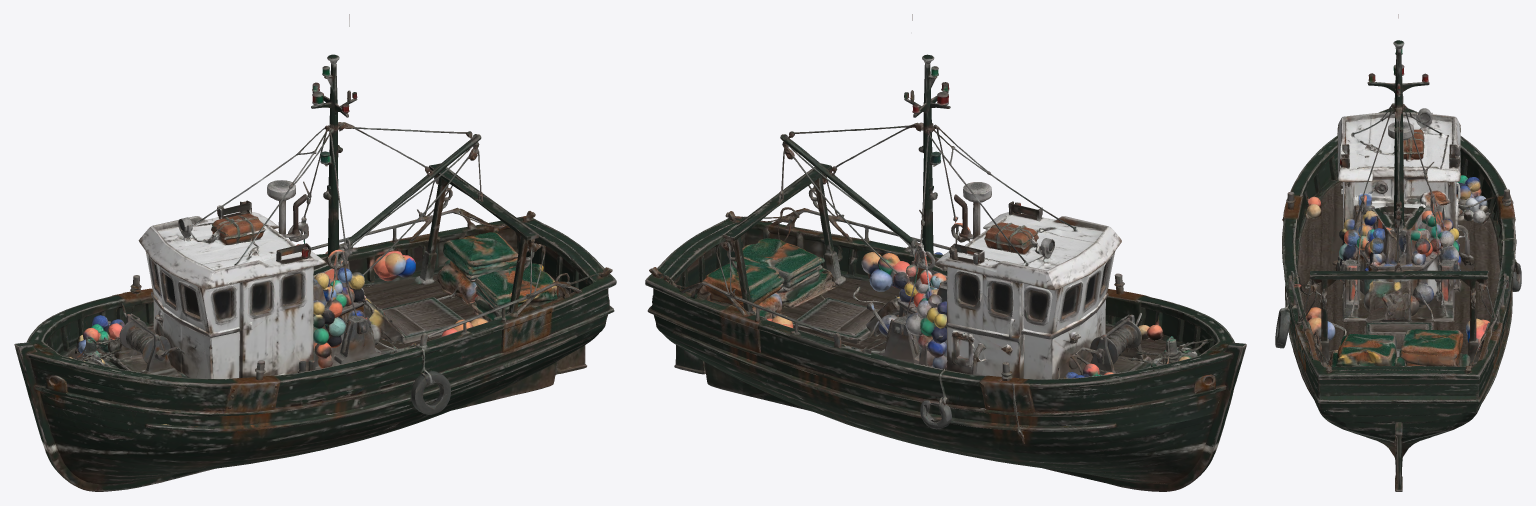
Rendered from boat.glb.
3 views of the same model, side by side, from view 1: azimuth 30°, elevation 25°; view 2: azimuth 150°, elevation 25°; view 3: azimuth 270°, elevation 25° (orthographic). The views are drawn at different scales.
Visible parts, largest first — view 1: Mesh_0; view 2: Mesh_0; view 3: Mesh_0.
Boxes of the visible parts, x1,y1,x2,y2 form: Mesh_0: [14, 14, 616, 491]; Mesh_0: [645, 14, 1246, 491]; Mesh_0: [1275, 14, 1521, 491].
Bounding box in the file's own units: 1.9 × 1.34 × 0.7825.
1 material, 1 textured.
